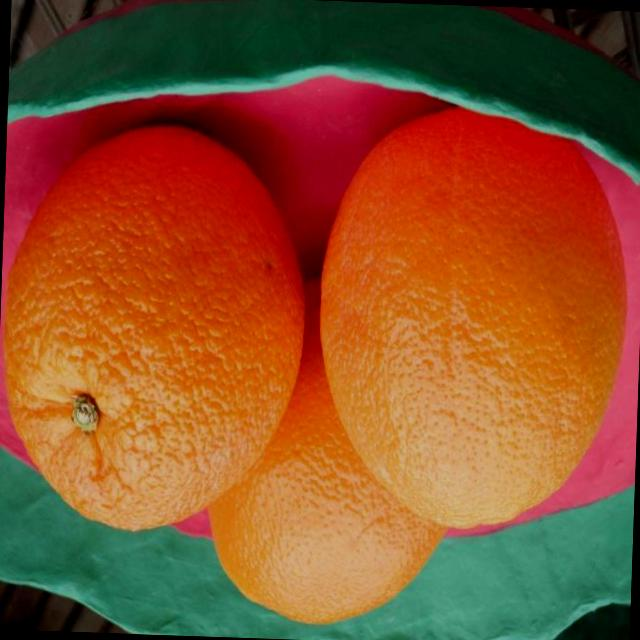Orange: (309, 101, 634, 536), (0, 118, 311, 538), (202, 274, 455, 630)
